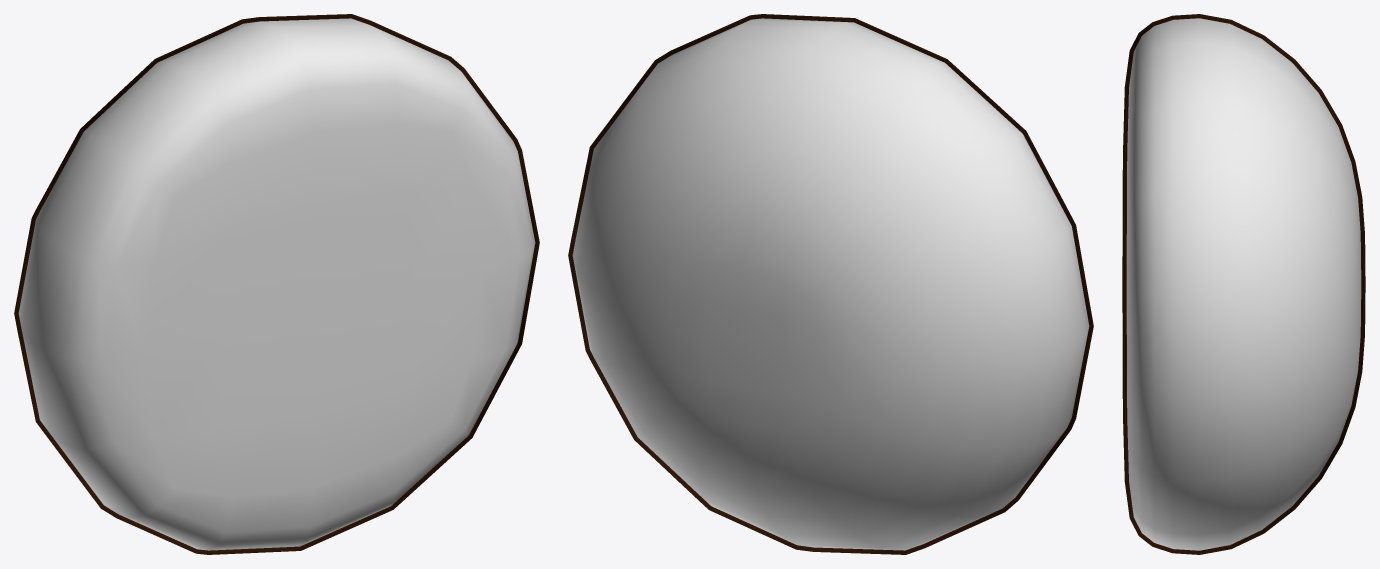
Rendered from Pizza.fbx.
3 renders of one model, left to right at view 1: azimuth 30°, elevation 25°; view 2: azimuth 150°, elevation 25°; view 3: azimuth 270°, elevation 25°, orthographic. The views are drawn at different scales.
Parts seen in each view (by area): view 1: pi; view 2: pi; view 3: pi.
Part boxes in pixels (x1,y1,x2,y2): pi: (14,14,539,554); pi: (568,14,1093,554); pi: (1122,14,1365,554).
Bounding box in the file's own units: 127 × 127 × 56.95.
